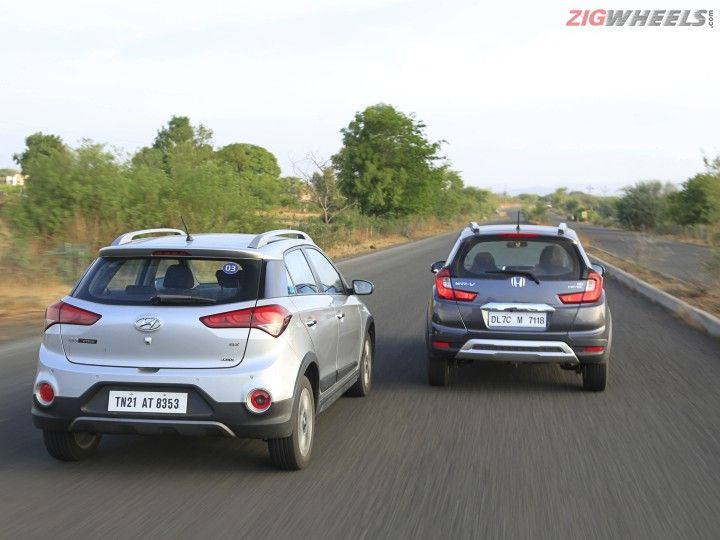car: (22, 220, 380, 486), (411, 209, 617, 400)
